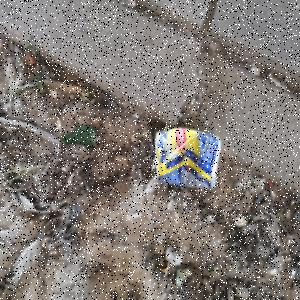Can: (154, 127, 224, 192)
